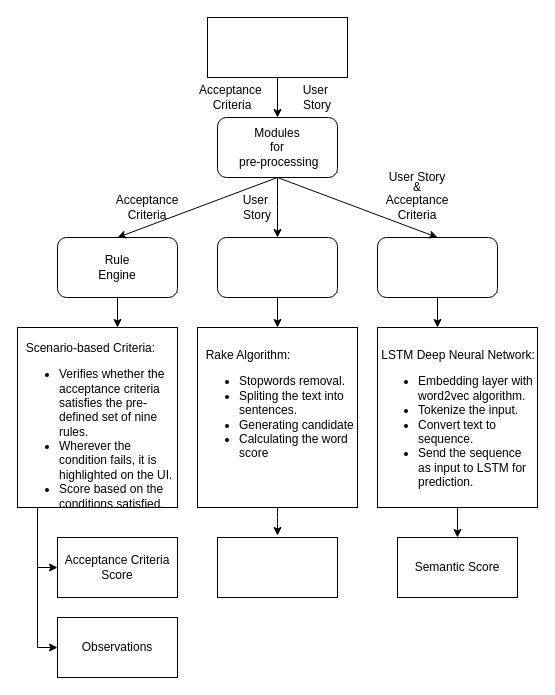
Image size: 555x695. Some labels were removed from this diagram. The shapes that lost their labels are listed below. From the top down, each one's centre as x and y in pixels, then its label:
the point at 277,47: Dynamic Validation/ Bulk Validation
the point at 277,267: Keywords Extractor
the point at 437,267: Machine Learning Model
the point at 277,567: Keywords
